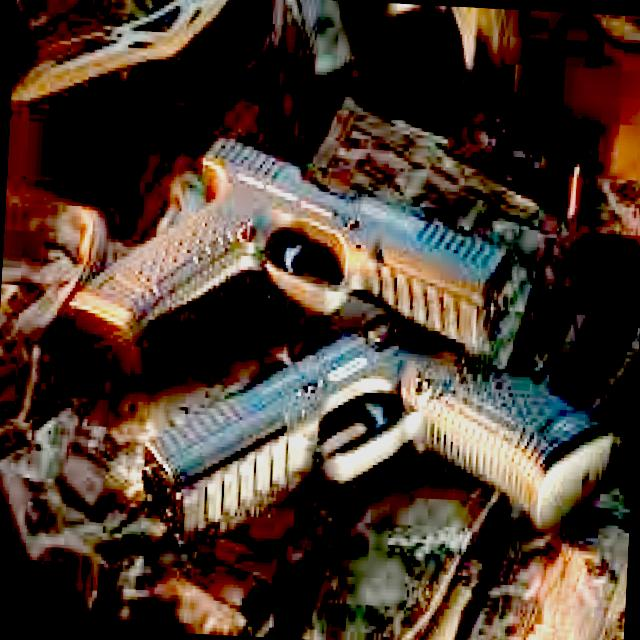semi automatic: (42, 108, 639, 598)
